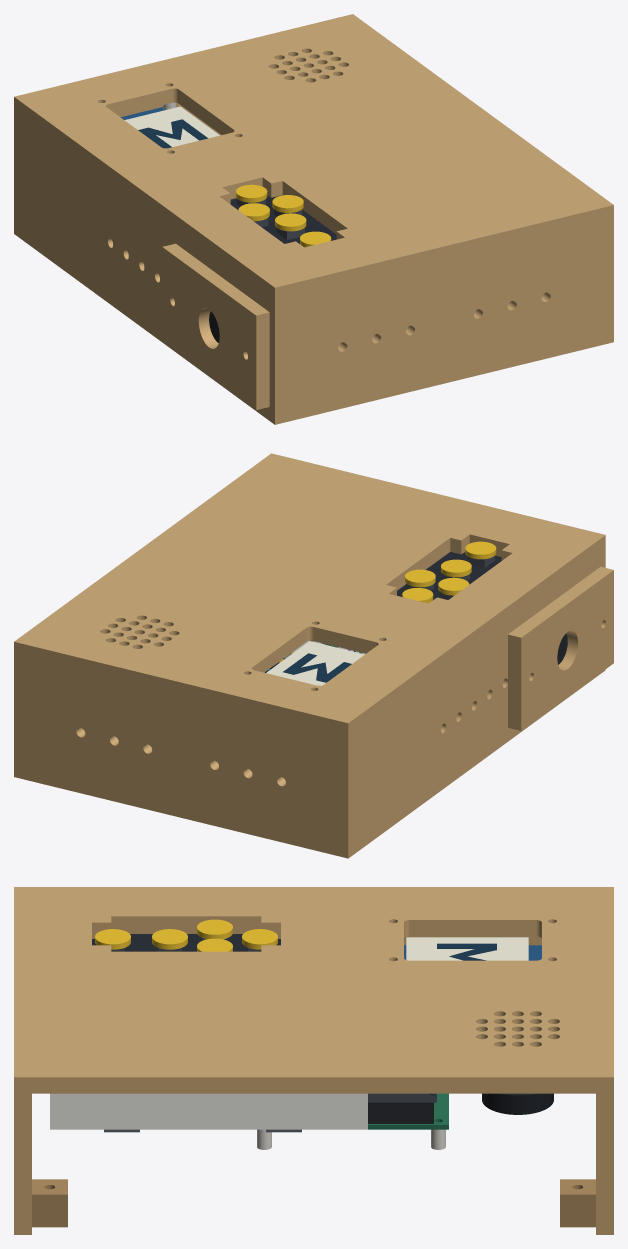
Rendered from internals.glb.
3 views of the same model, one above another, from view 1: azimuth 30°, elevation 25°; view 2: azimuth 150°, elevation 25°; view 3: azimuth 270°, elevation 25° (orthographic). The views are drawn at different scales.
Parts seen in each view (by area): view 1: internals (×5); view 2: internals (×5); view 3: internals (×12).
Part boxes in pixels (x1,y1,x2,y2): internals (×5): (14,14,613,424); internals (×5): (14,453,613,858); internals (×12): (14,887,613,1234).
Size of the model in its own units: 0.156 by 0.058 by 0.2.
